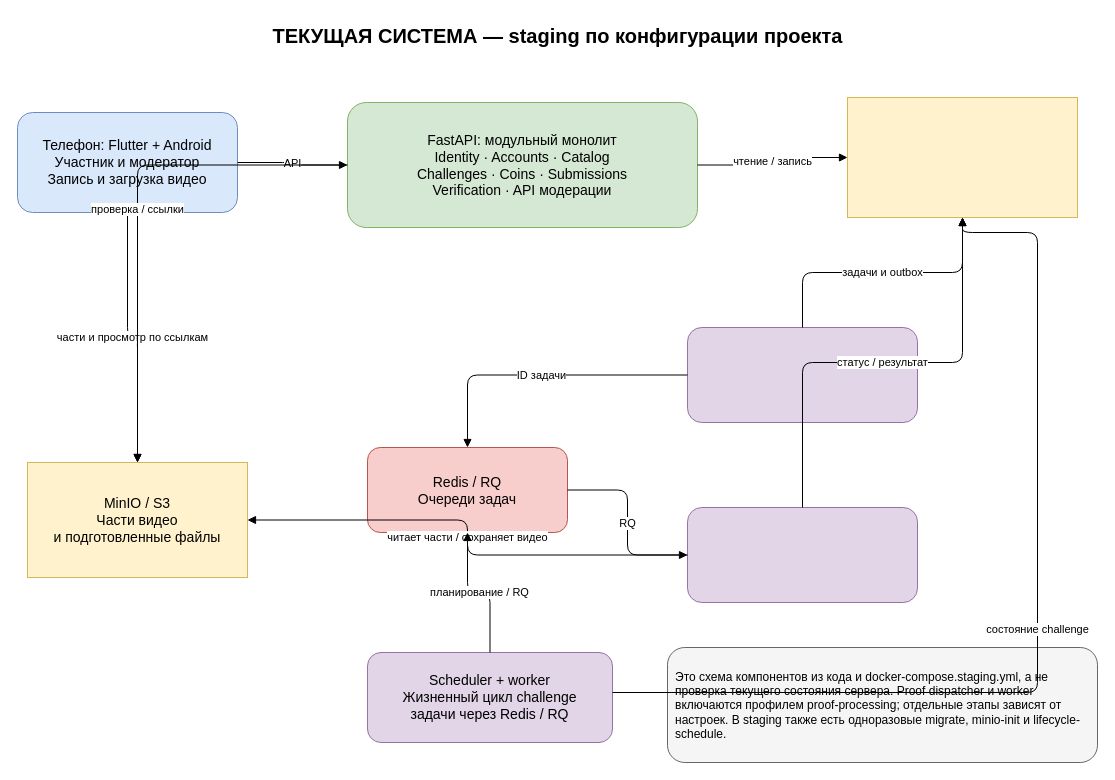
Image size: 1115x780. Some labels were removed from this diagram. Here are the shapes that lost their labels. From the top down, the box of each, then its label:
(846, 96, 1078, 218): PostgreSQL Участники, challenge, монеты, состояния, задания и outbox
(686, 326, 918, 422): Proof dispatcher Проверяет БД и ставит задачи обработки в RQ
(686, 506, 918, 602): Proof worker Проверка · сборка видео допуск к модерации
